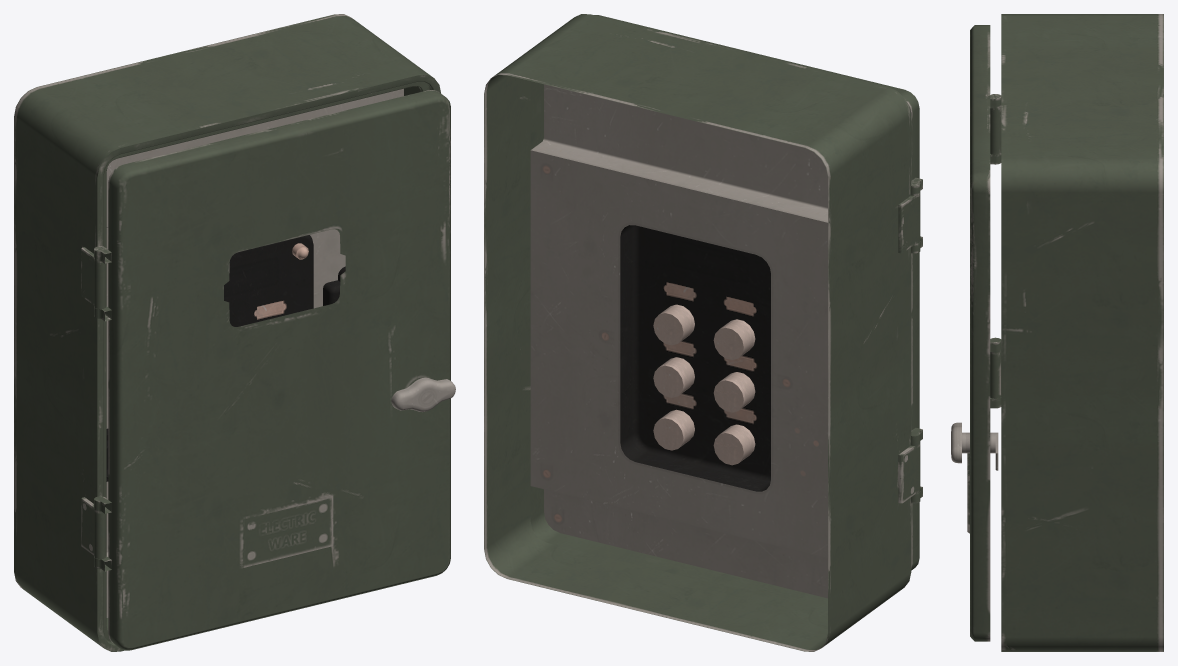
Rendered from BREAKER.fbx.
3 views of the same model, side by side, from view 1: azimuth 30°, elevation 25°; view 2: azimuth 150°, elevation 25°; view 3: azimuth 270°, elevation 25° (orthographic). The views are drawn at different scales.
Visible parts, largest first — view 1: Object_8.001, Object_8; view 2: Object_8, Object_8.001; view 3: Object_8, Object_8.001.
Boxes of the visible parts, left/top/right/bottom form: Object_8.001: left=108, top=90, right=455, bottom=650; Object_8: left=14, top=14, right=440, bottom=651; Object_8: left=484, top=14, right=922, bottom=651; Object_8.001: left=594, top=15, right=919, bottom=570; Object_8: left=990, top=14, right=1163, bottom=651; Object_8.001: left=951, top=25, right=998, bottom=641.
Size of the model in its own units: 1662 by 2284 by 896.
Materials: 1 (1 with a texture image).
